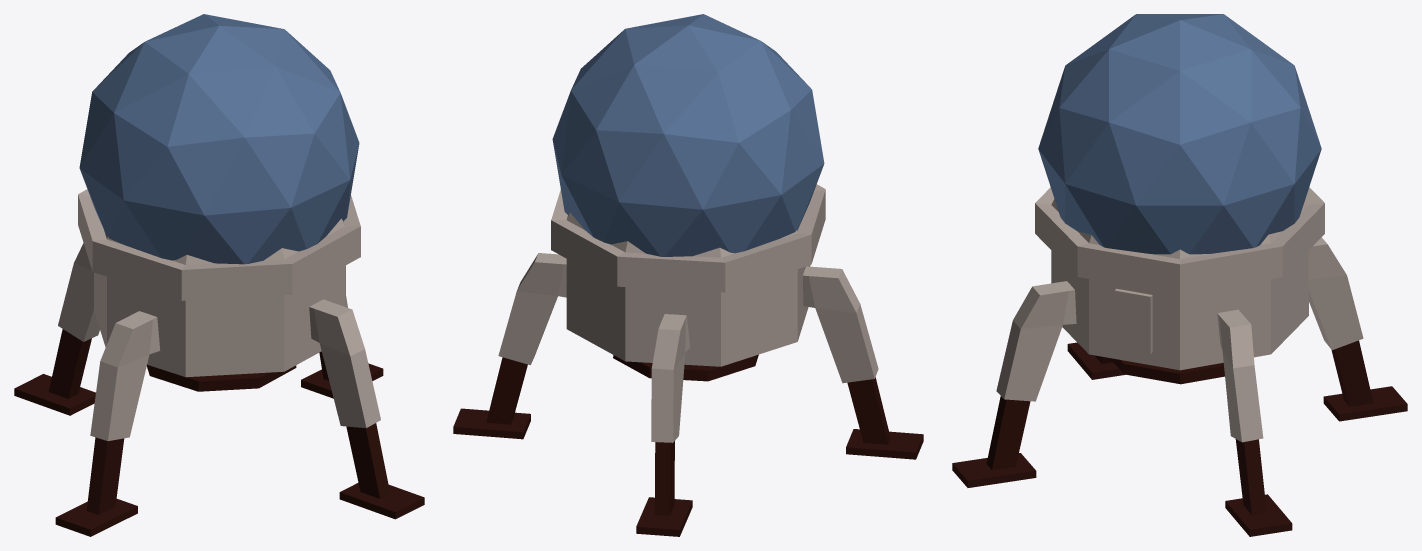
Rendered from SpaceShip.fbx.
3 views of the same model, side by side, from view 1: azimuth 30°, elevation 25°; view 2: azimuth 150°, elevation 25°; view 3: azimuth 270°, elevation 25° (orthographic). The views are drawn at different scales.
Parts seen in each view (by area): view 1: Icosphere, Cylinder, Cube.004, Cube.003, Cube, Cube.002; view 2: Icosphere, Cylinder, Cube.004, Cube.002, Cube; view 3: Icosphere, Cylinder, Cube.003, Cube, Cube.002, Cube.004.
Boxes of the visible parts, x1=… form: Icosphere: x1=79, y1=14, x2=359, y2=264; Cylinder: x1=78, y1=189, x2=360, y2=391; Cube.004: x1=55, y1=311, x2=160, y2=536; Cube.003: x1=309, y1=299, x2=424, y2=519; Cube: x1=14, y1=243, x2=99, y2=415; Cube.002: x1=301, y1=296, x2=383, y2=398; Icosphere: x1=552, y1=14, x2=824, y2=256; Cylinder: x1=551, y1=184, x2=825, y2=381; Cube.004: x1=803, y1=266, x2=923, y2=459; Cube.002: x1=453, y1=253, x2=566, y2=439; Cube: x1=636, y1=314, x2=692, y2=536; Icosphere: x1=1038, y1=14, x2=1321, y2=254; Cylinder: x1=1035, y1=187, x2=1324, y2=384; Cube.003: x1=952, y1=281, x2=1076, y2=487; Cube: x1=1308, y1=237, x2=1407, y2=421; Cube.002: x1=1217, y1=309, x2=1292, y2=536; Cube.004: x1=1067, y1=342, x2=1125, y2=379.
Size of the model in its own units: 306 by 312 by 306.
